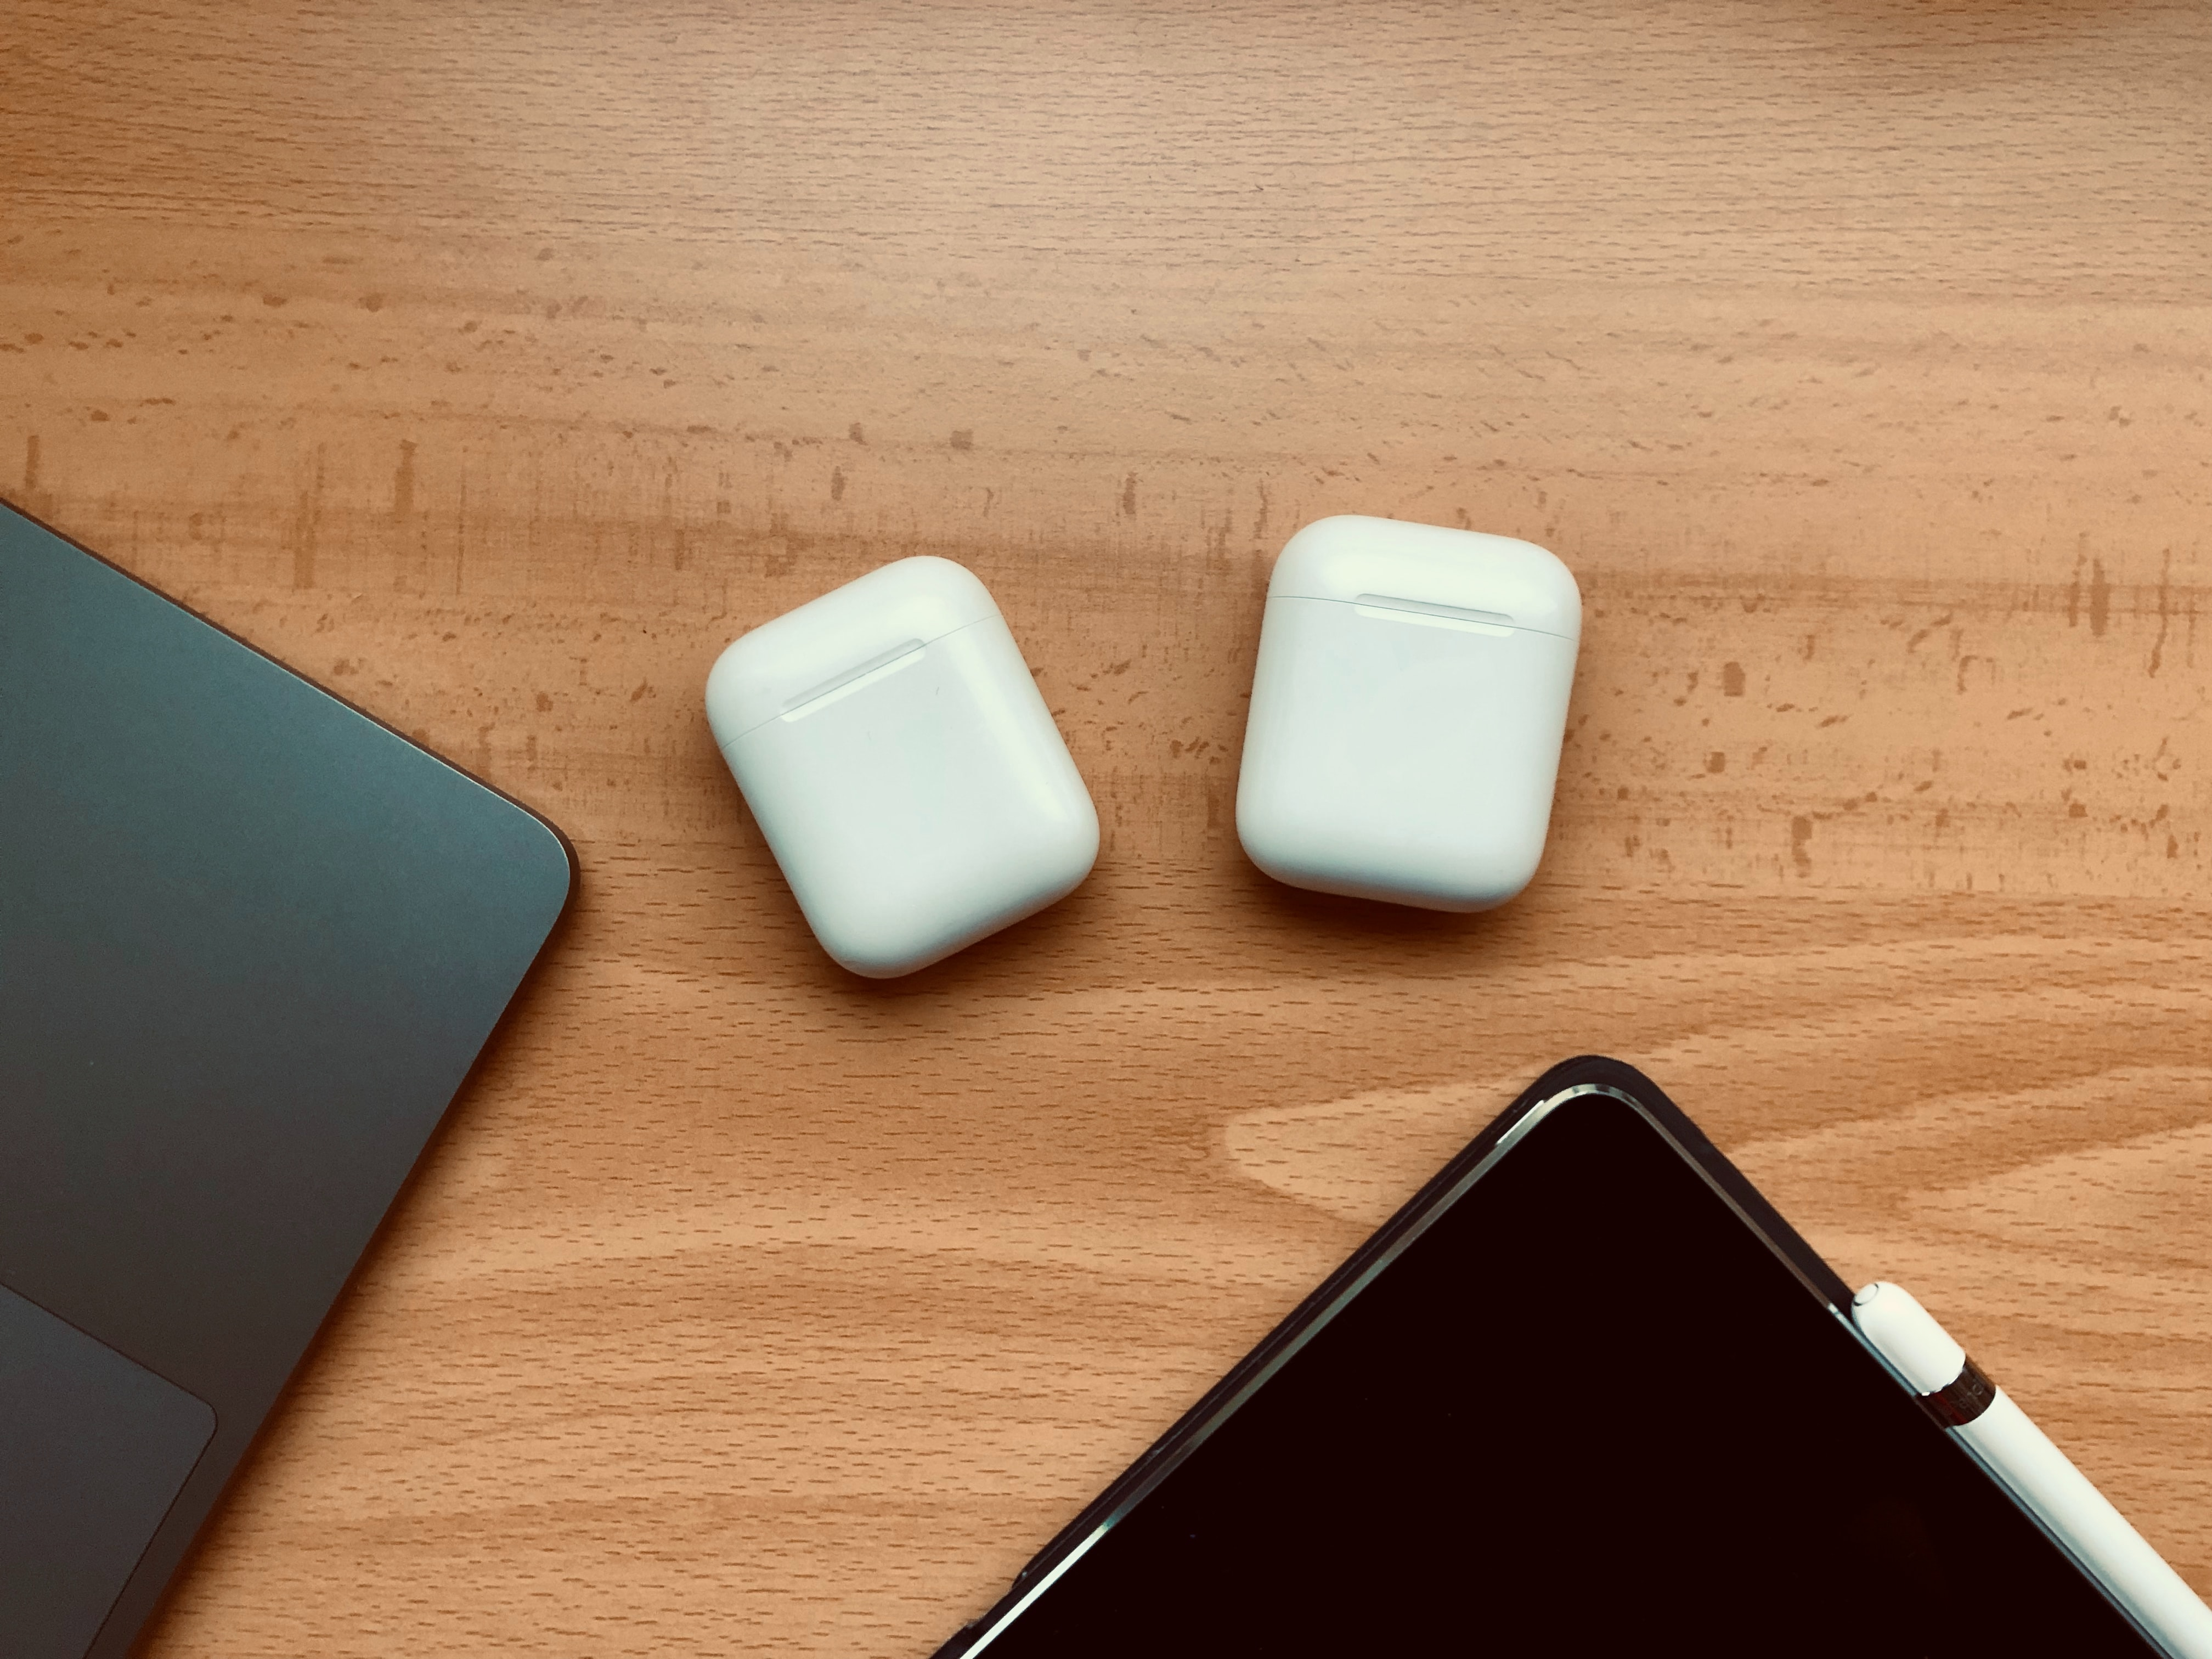airpods: (695, 551, 1108, 999), (1223, 507, 1592, 932)
